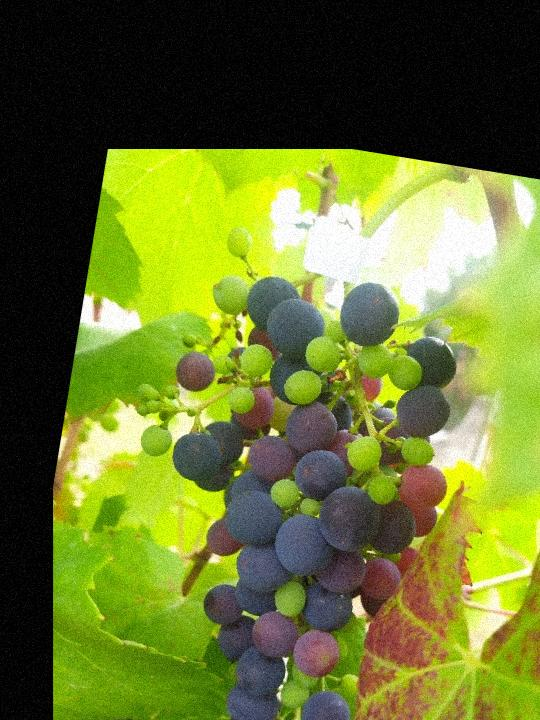grape: (64, 211, 483, 720)
